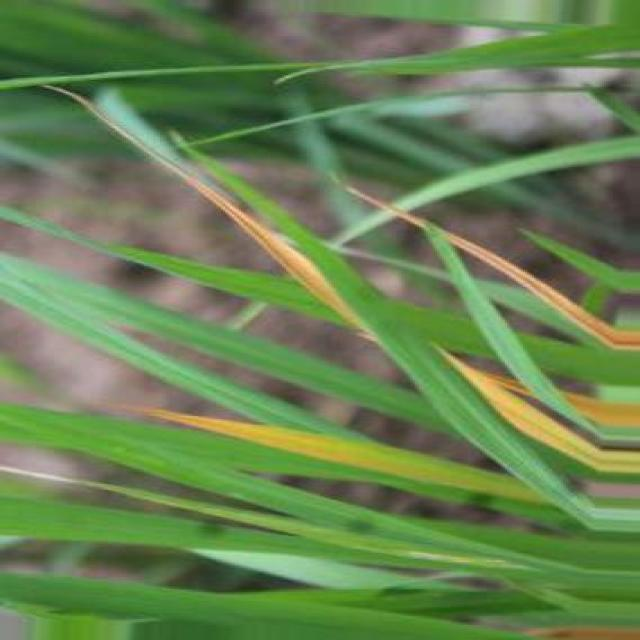Rice Tungro: (53, 88, 368, 332), (144, 409, 546, 503), (441, 351, 639, 473), (442, 231, 639, 349), (349, 189, 424, 227), (566, 393, 639, 427)
